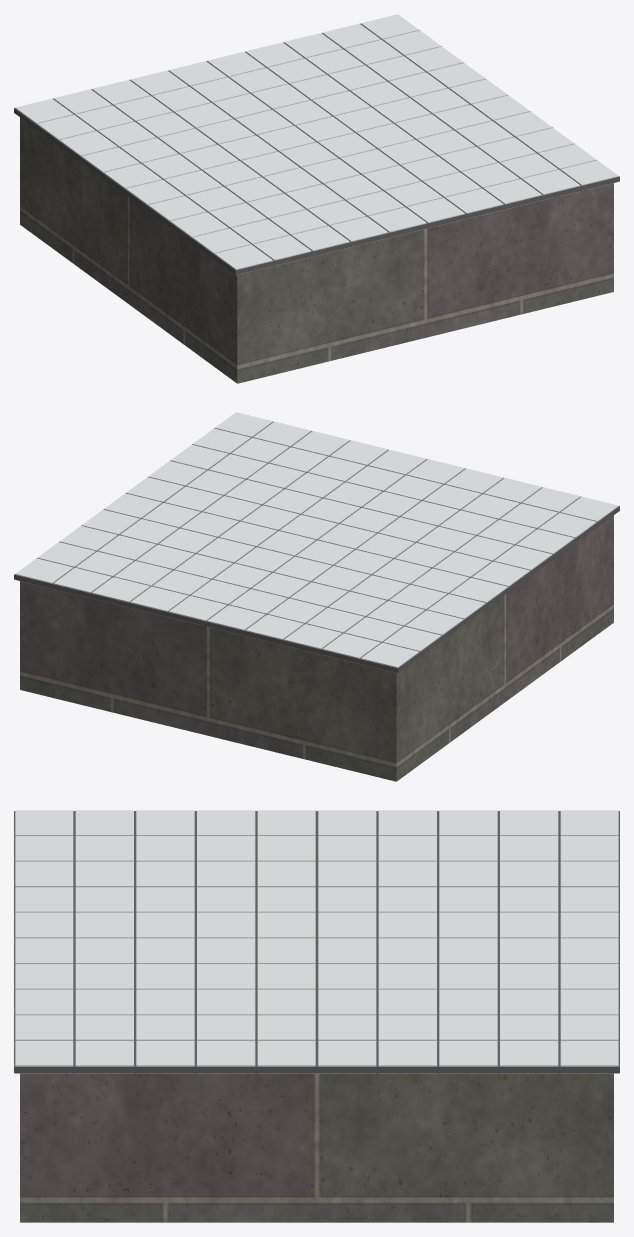
File: floor_bath_g.glb
The picture shows the model from 3 angles, top to bottom: view 1: azimuth 30°, elevation 25°; view 2: azimuth 150°, elevation 25°; view 3: azimuth 270°, elevation 25°; orthographic projection. The views are drawn at different scales.
Parts seen in each view (by area): view 1: floor_bath_g_tile, floor_bath_g_plinth, floor_bath_g_dark; view 2: floor_bath_g_tile, floor_bath_g_plinth, floor_bath_g_dark; view 3: floor_bath_g_tile, floor_bath_g_plinth, floor_bath_g_dark.
Boxes of the visible parts, x1,y1,x2,y2 form: floor_bath_g_tile: (15,14,618,275); floor_bath_g_plinth: (20,117,613,383); floor_bath_g_dark: (14,23,619,274); floor_bath_g_tile: (15,412,618,673); floor_bath_g_plinth: (20,515,613,781); floor_bath_g_dark: (14,421,619,672); floor_bath_g_tile: (15,810,618,1073); floor_bath_g_plinth: (20,1073,613,1222); floor_bath_g_dark: (14,811,619,1073).
Bounding box in the file's own units: 2 × 0.58 × 2.
Materials: 3 (1 with a texture image).
